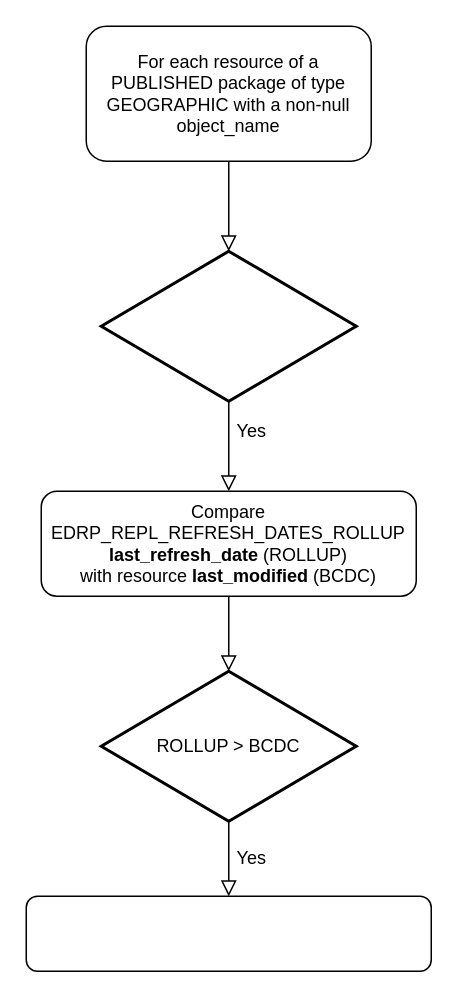
The diagram is 458 pixels wide and 998 high, and some of its shapes have lost their labels. Here are the shapes that lost their labels. From the top down, the box of each, then its label:
(99, 249, 357, 402): Is the resource_storage_location the BCGW?
(25, 895, 431, 971): Update resource last_modified
